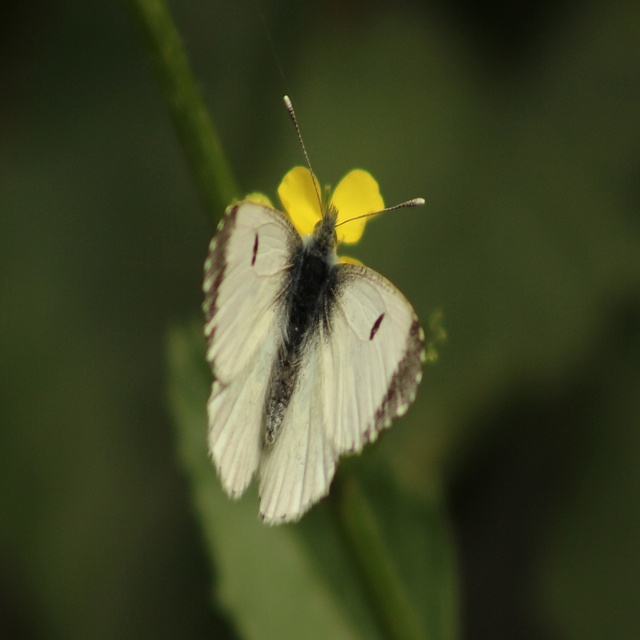Butterfly: (201, 91, 426, 526)
